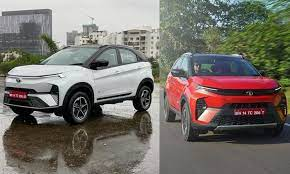Tata Nexon: (4, 43, 154, 125), (162, 50, 287, 144)
